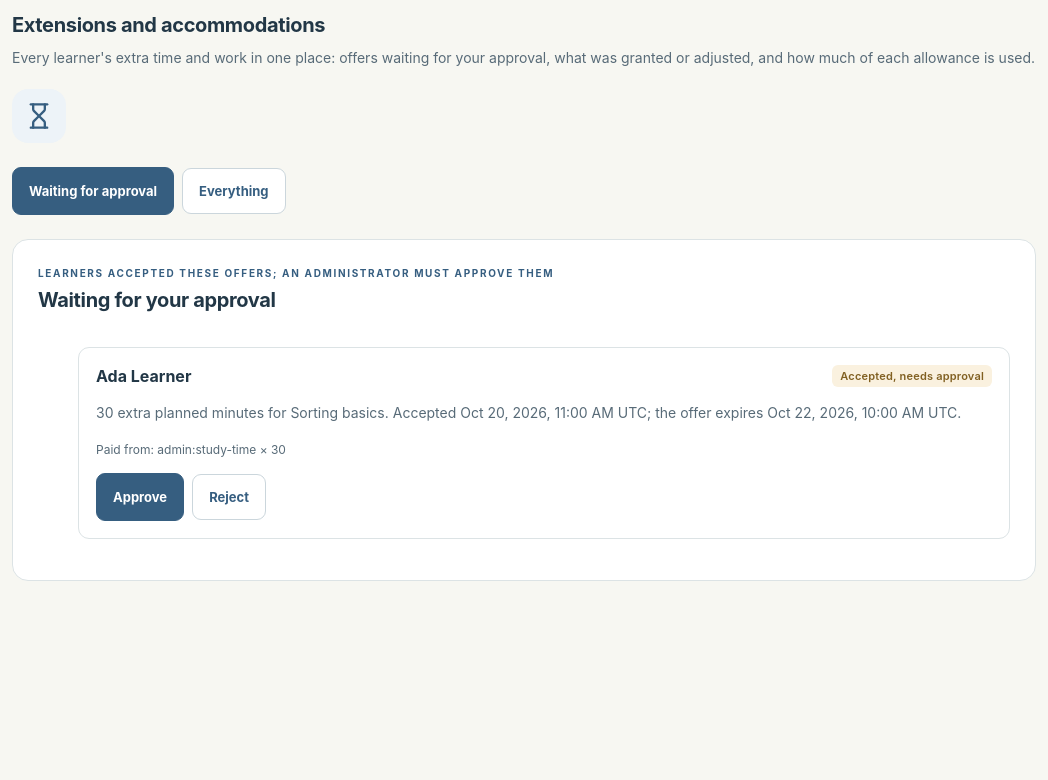
Test case: extensions and accommodations across learners (Q05, G05) › approves an accepted offer from the queue with the learner's revision
This screenshot has width=1048, height=780.
Check: the text "Ada Learner" is shown, box [96, 366, 191, 386]
Check: the text "30 extra planned minutes for Sorting basics" is shown, box [96, 404, 961, 421]
Click the button "Approve": click(140, 497) [96, 473, 184, 521]
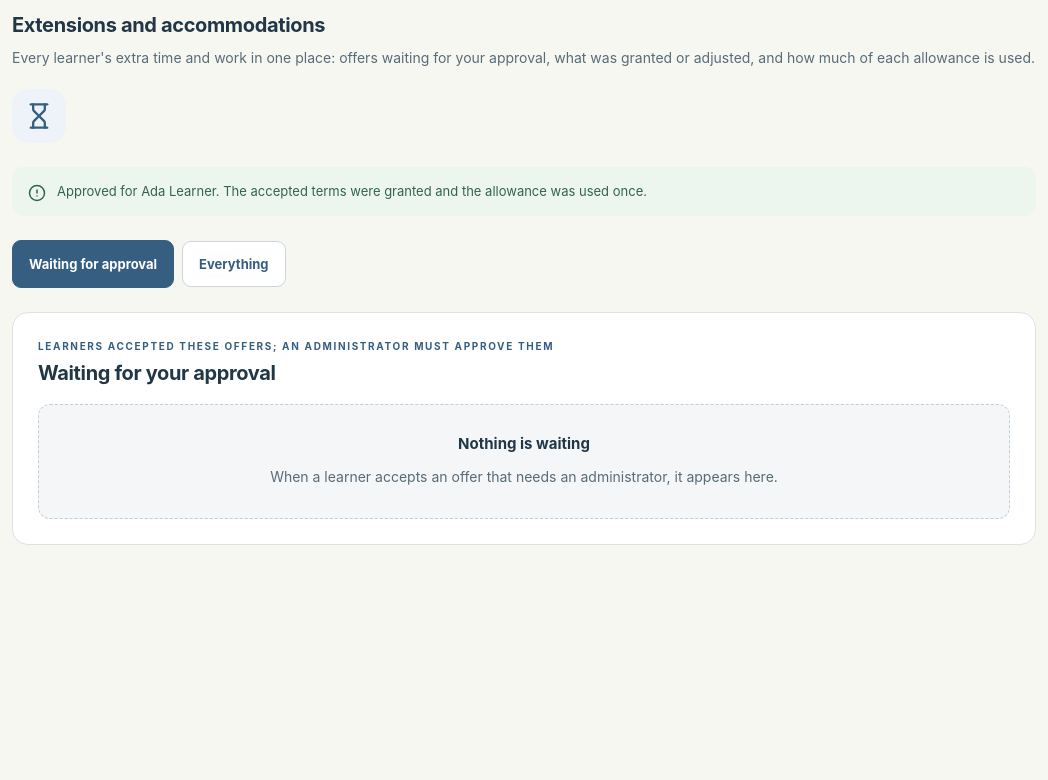
Check: the text "Approved for Ada Learner" is shown, box [57, 182, 647, 198]
Check: the heading "Nothing is waiting" is shown, box [458, 434, 590, 453]
